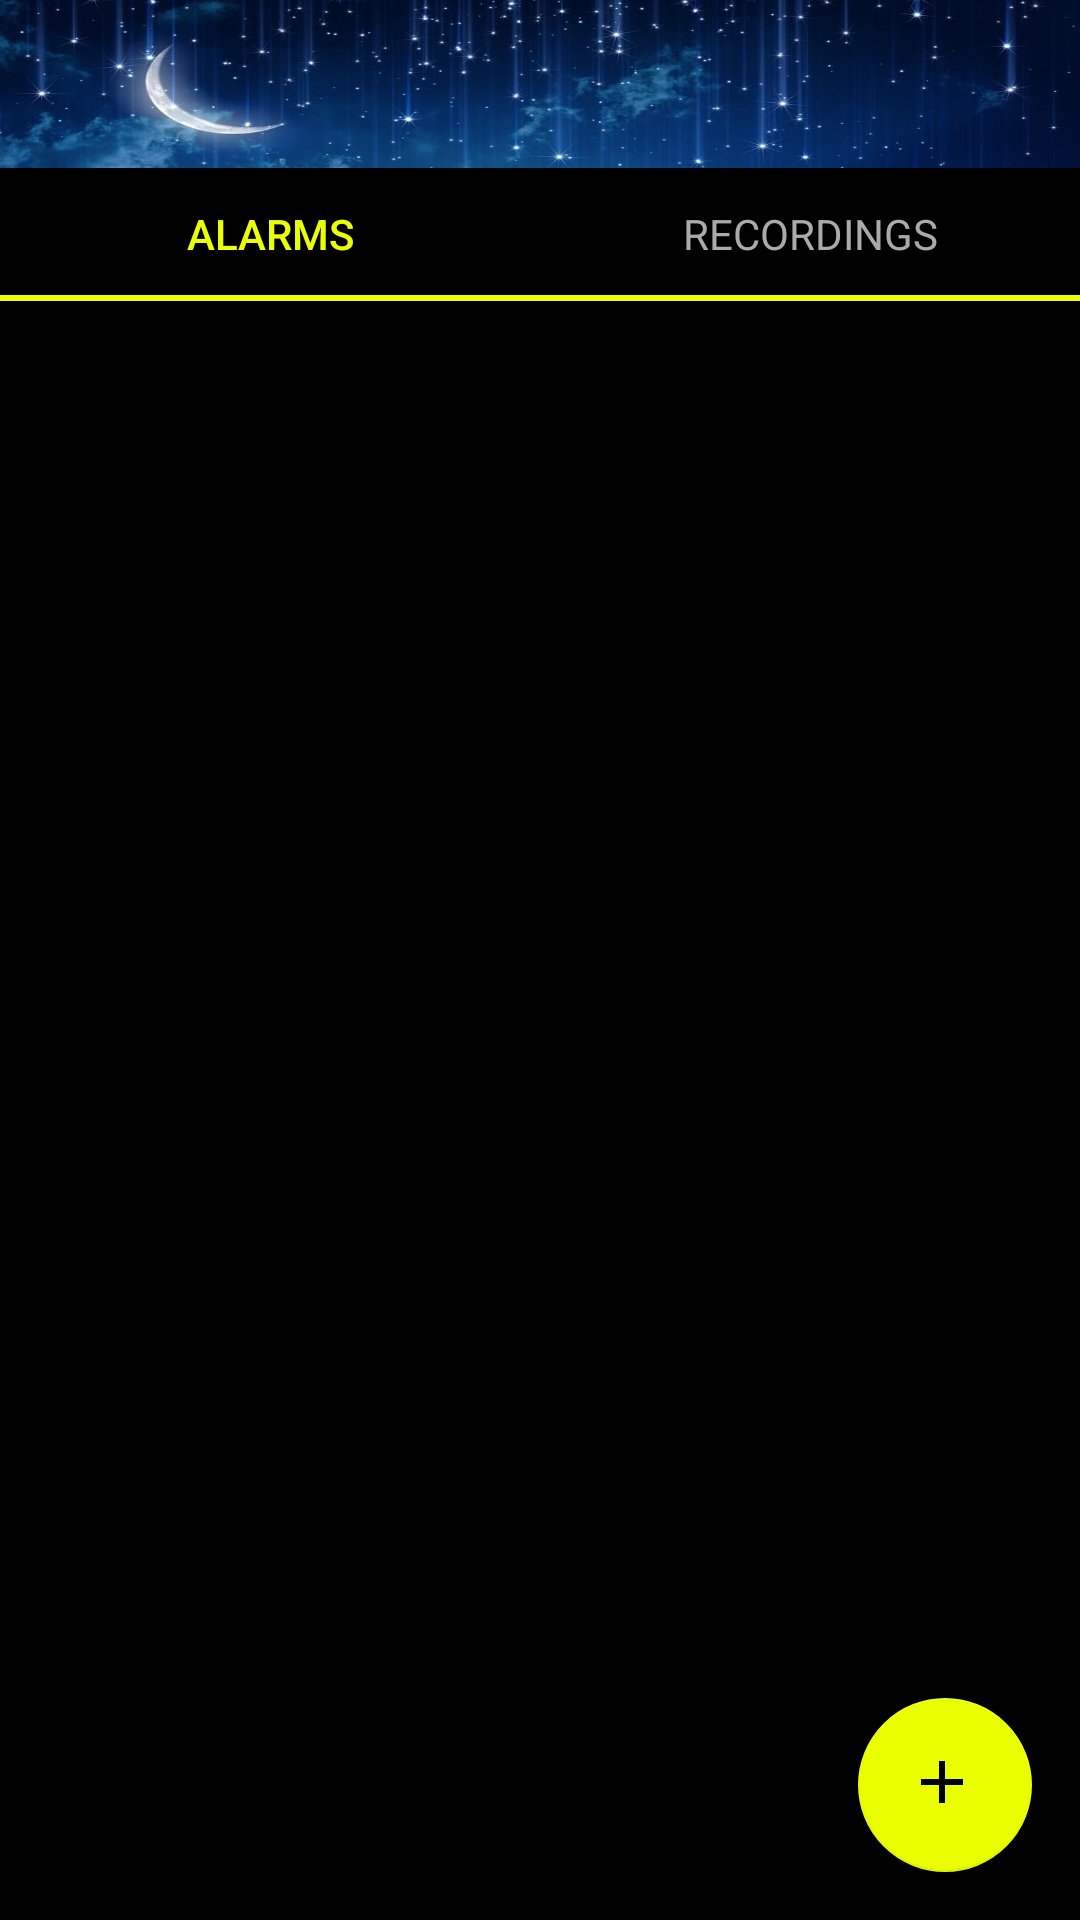

Locate icon controls on the screen. Image size 1080 x 1920, boxes as (x1, y1, x2, y2).
add: (858, 1698, 1032, 1872)
